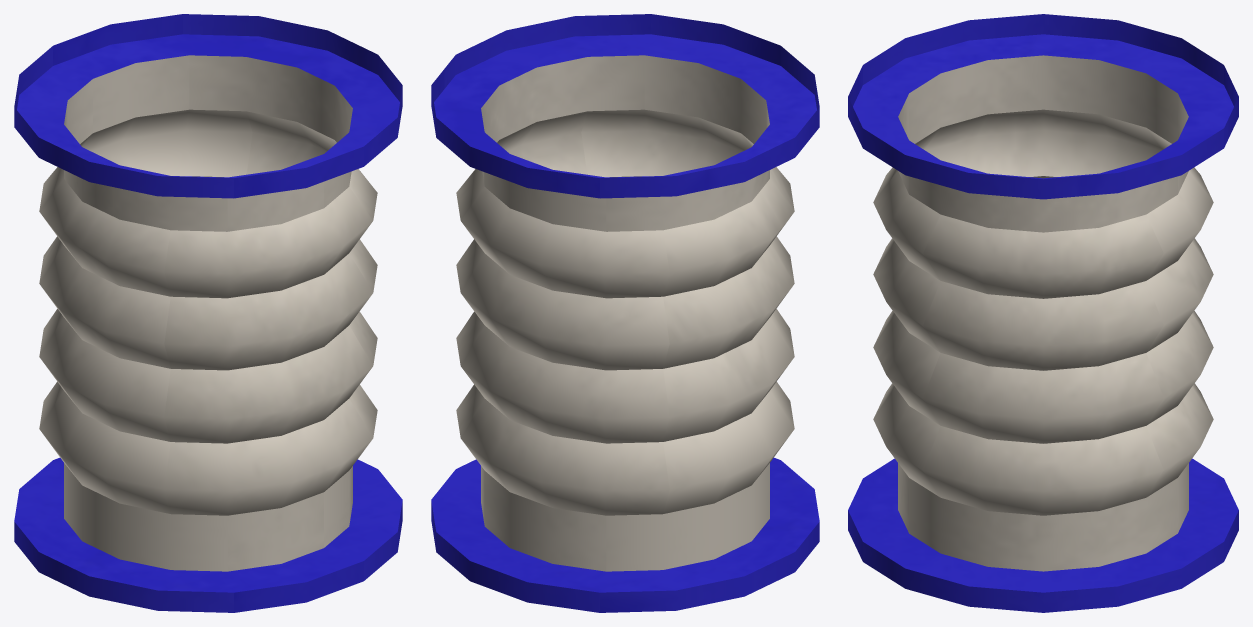
File: pipeflexjoint.fbx
3 views of the same model, side by side, from view 1: azimuth 30°, elevation 25°; view 2: azimuth 150°, elevation 25°; view 3: azimuth 270°, elevation 25° (orthographic).
Visible parts, largest first — view 1: pipeFlexJoint; view 2: pipeFlexJoint; view 3: pipeFlexJoint.
Part boxes in pixels (left/top/right/bottom): pipeFlexJoint: left=14, top=14, right=402, bottom=612; pipeFlexJoint: left=431, top=14, right=819, bottom=612; pipeFlexJoint: left=848, top=14, right=1238, bottom=612.
Size of the model in its own units: 0.4296 by 0.526 by 0.4296.
